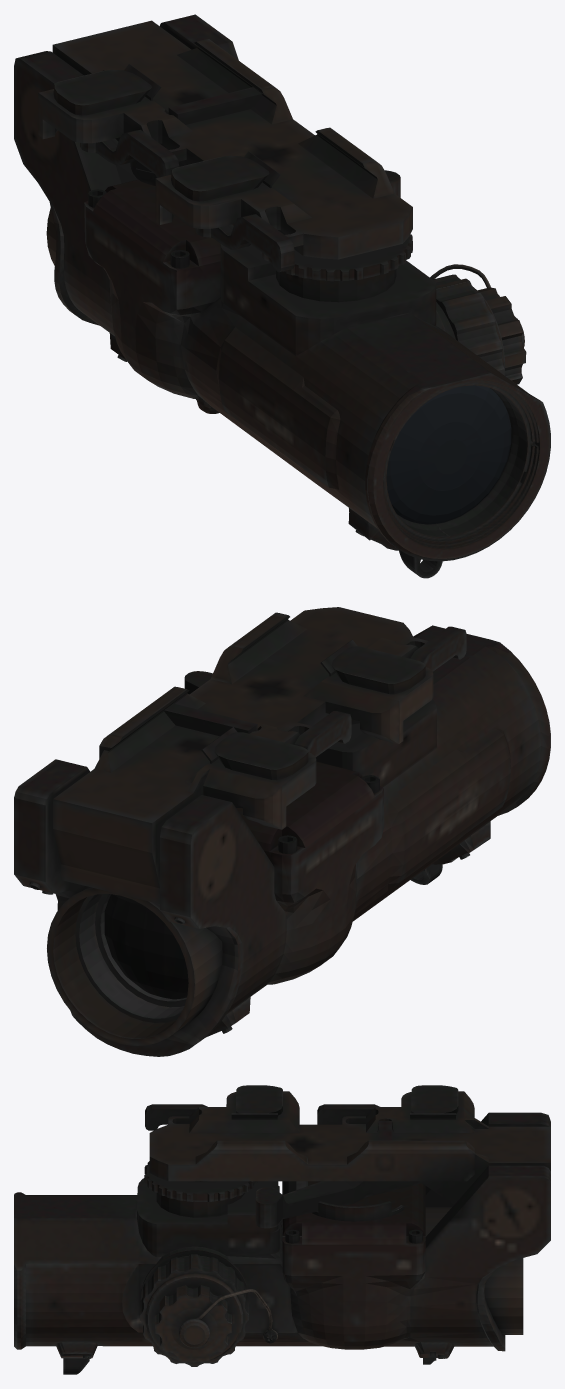
The picture shows the model from 3 angles, top to bottom: view 1: azimuth 30°, elevation 25°; view 2: azimuth 150°, elevation 25°; view 3: azimuth 270°, elevation 25°; orthographic projection. The views are drawn at different scales.
Parts seen in each view (by area): view 1: TW_57aca93d2459771f2c7e26db_mode1_PZ_Import; view 2: TW_57aca93d2459771f2c7e26db_mode1_PZ_Import; view 3: TW_57aca93d2459771f2c7e26db_mode1_PZ_Import.
Part boxes in pixels (left/top/right/bottom): TW_57aca93d2459771f2c7e26db_mode1_PZ_Import: left=14, top=14, right=550, bottom=578; TW_57aca93d2459771f2c7e26db_mode1_PZ_Import: left=14, top=607, right=550, bottom=1056; TW_57aca93d2459771f2c7e26db_mode1_PZ_Import: left=14, top=1085, right=550, bottom=1374.
Size of the model in its own units: 0.0417 by 0.0874 by 0.0443.
Materials: 1 (1 with a texture image).
